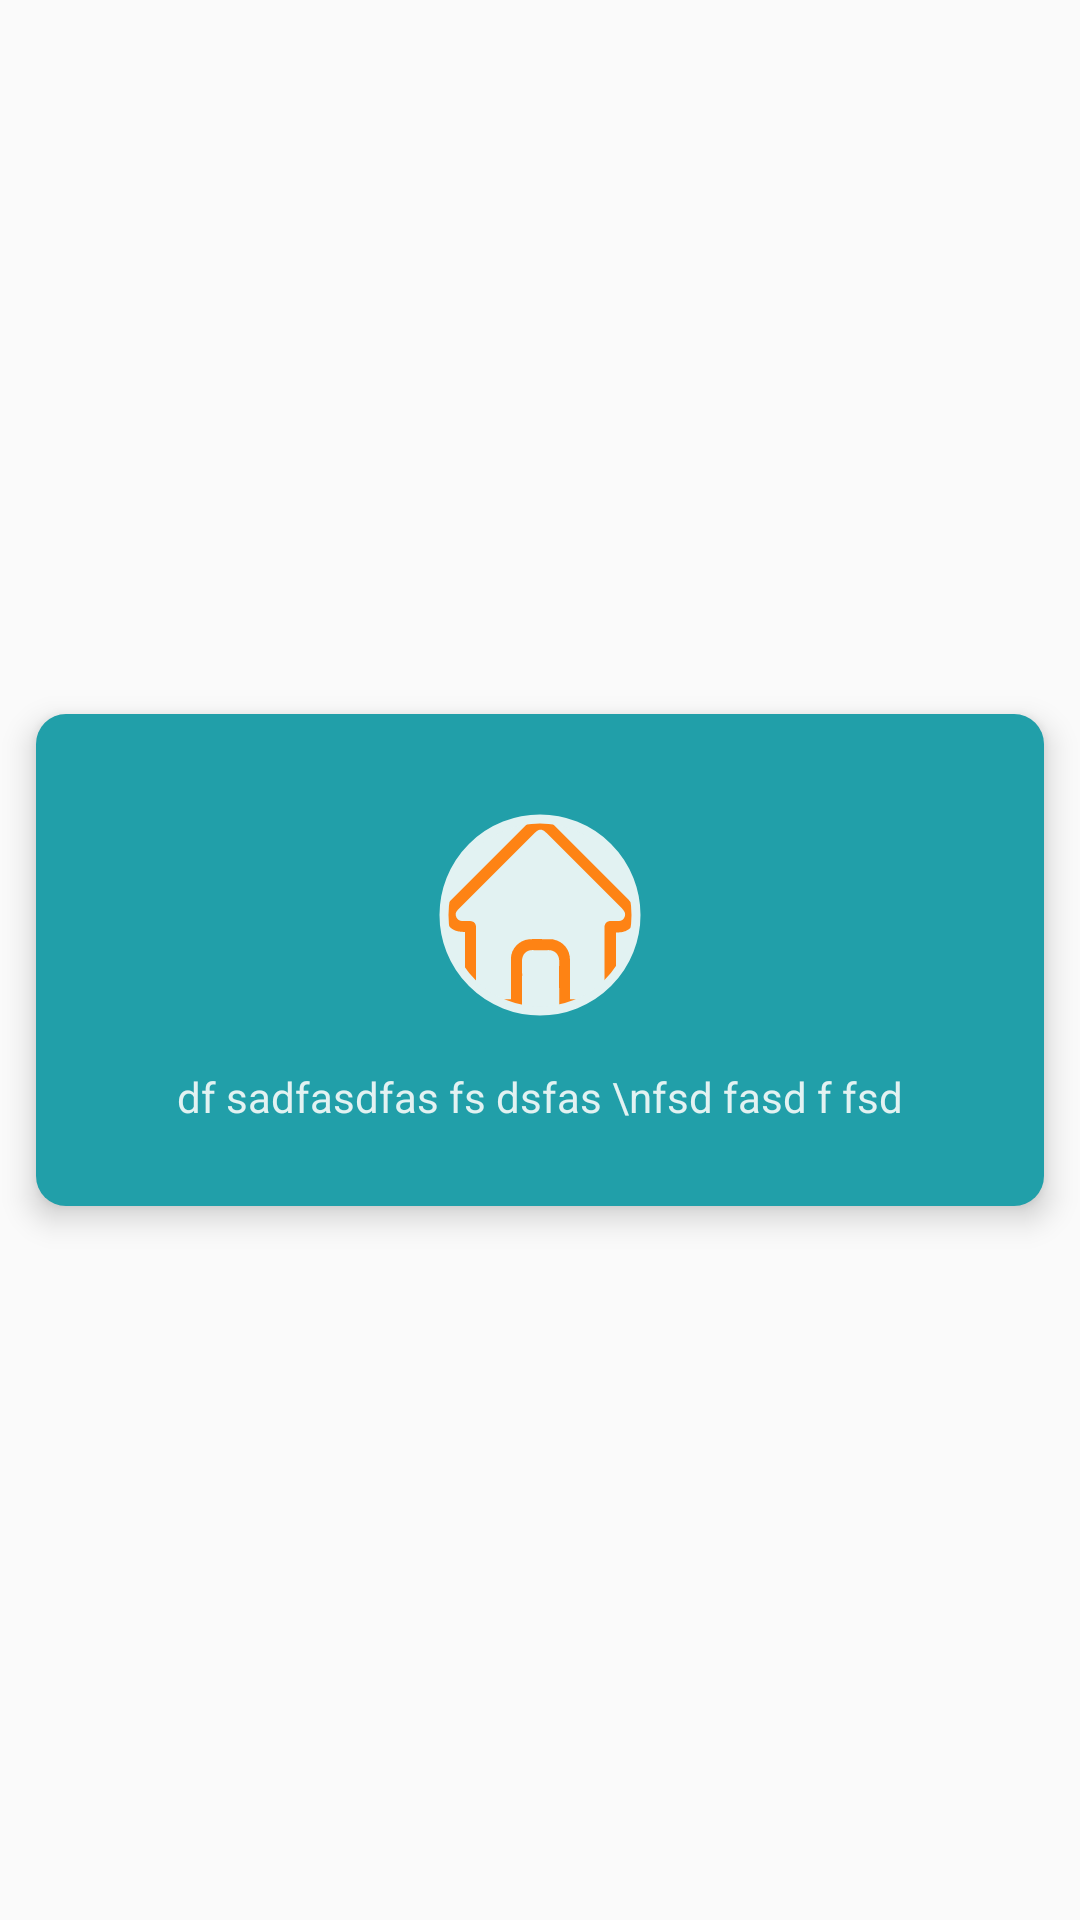

Where to tap for icons on this 1080px x 1920px app screen, as point (x, y):
home: point (540, 915)
